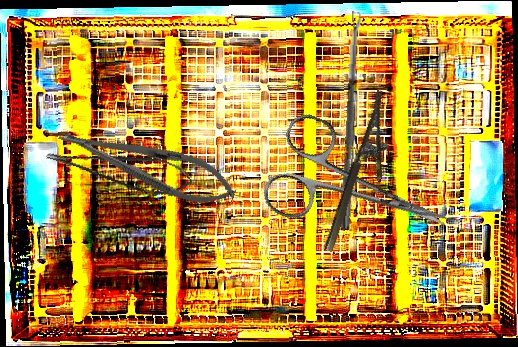Iris Scissors: (257, 108, 464, 274)
Micro Scissor: (44, 125, 197, 207)
Needle Holder: (52, 112, 243, 216), (322, 89, 409, 260)
Surgical Spoon: (340, 11, 363, 231)
